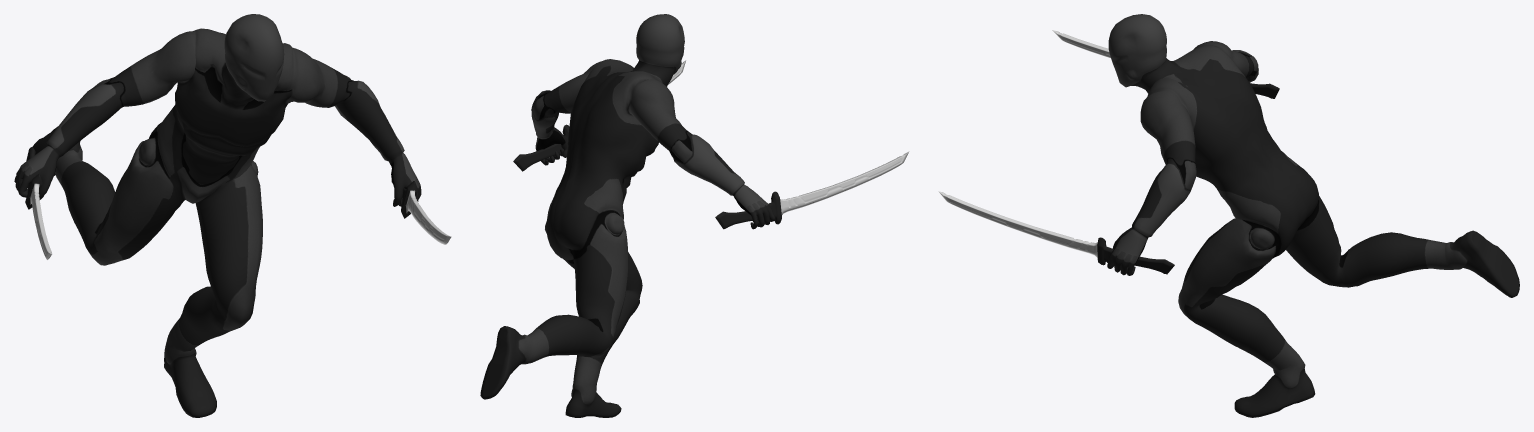
3 renders of one model, left to right at view 1: azimuth 30°, elevation 25°; view 2: azimuth 150°, elevation 25°; view 3: azimuth 270°, elevation 25°, orthographic. The views are drawn at different scales.
Visible parts, largest first — view 1: Cyborg_Ninja_Killer, Sword_l, Sword_l001; view 2: Cyborg_Ninja_Killer, Sword_l001, Sword_l; view 3: Cyborg_Ninja_Killer, Sword_l, Sword_l001.
Boxes of the visible parts, left/top/right/bottom form: Cyborg_Ninja_Killer: left=14, top=14, right=421, bottom=417; Sword_l: left=391, top=180, right=451, bottom=244; Sword_l001: left=25, top=147, right=51, bottom=259; Cyborg_Ninja_Killer: left=480, top=14, right=775, bottom=417; Sword_l001: left=715, top=151, right=909, bottom=229; Sword_l: left=513, top=60, right=686, bottom=171; Cyborg_Ninja_Killer: left=1107, top=14, right=1519, bottom=417; Sword_l: left=938, top=191, right=1174, bottom=274; Sword_l001: left=1052, top=30, right=1279, bottom=98.
Bounding box in the file's own units: 149 × 152 × 205.
2 materials, 2 textured.
